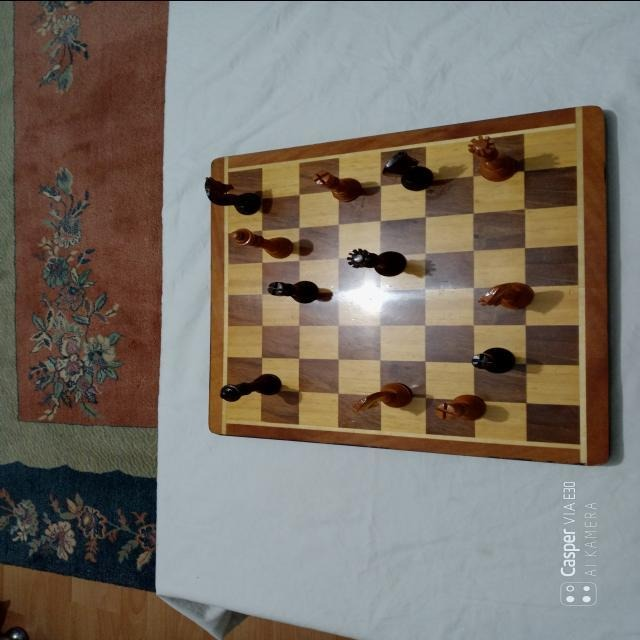black-king: (219, 373, 281, 401)
black-knight: (203, 175, 261, 215), (382, 149, 434, 191)
black-queen: (345, 248, 407, 276)
black-rook: (267, 279, 319, 303), (471, 346, 517, 373)
white-king: (230, 226, 293, 257)
white-knight: (351, 382, 413, 412), (477, 281, 535, 309)
white-queen: (467, 135, 517, 182)
white-rook: (311, 170, 361, 202), (433, 393, 487, 421)
